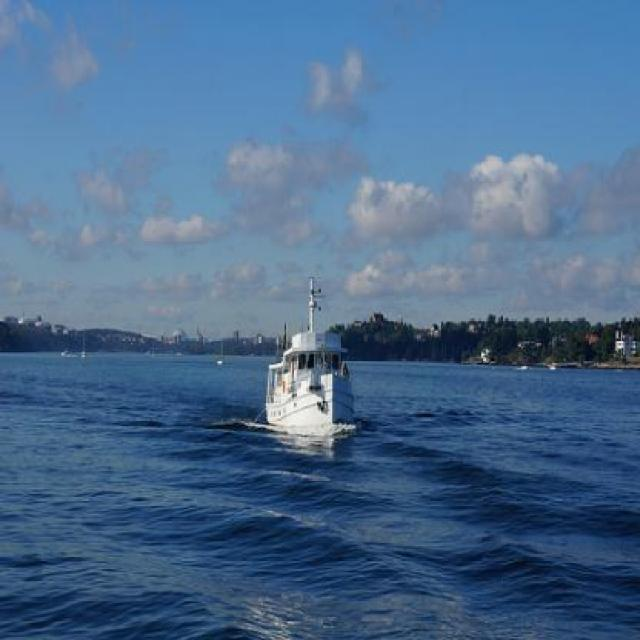ship: (266, 272, 356, 440)
